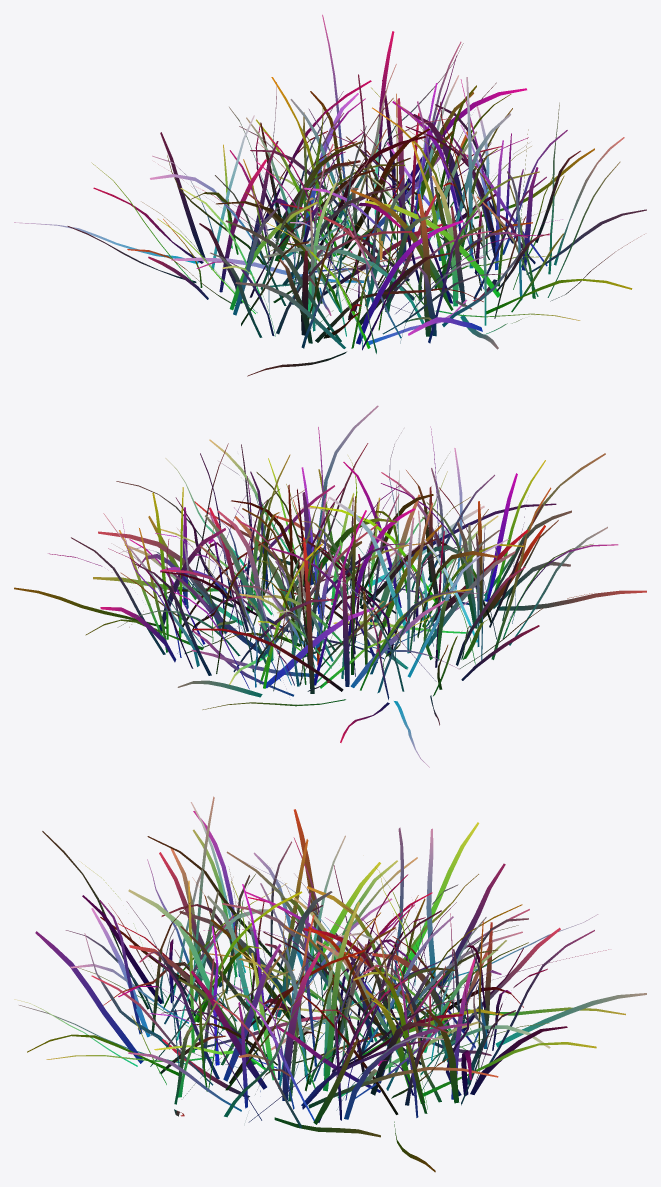
File: Wild_Grass_vlkhcbxia_Mid_vlkhcbxia_VarC_LOD0.fbx
The picture shows the model from 3 angles, top to bottom: view 1: azimuth 30°, elevation 25°; view 2: azimuth 150°, elevation 25°; view 3: azimuth 270°, elevation 25°; orthographic projection. The views are drawn at different scales.
Parts seen in each view (by area): view 1: _xech_VarC_LOD1; view 2: _xech_VarC_LOD1; view 3: _xech_VarC_LOD1.
Boxes of the visible parts, <box> form: _xech_VarC_LOD1: <box>14,14,646,376</box>; _xech_VarC_LOD1: <box>14,405,646,767</box>; _xech_VarC_LOD1: <box>14,796,646,1172</box>.
Size of the model in its own units: 49.64 by 14.89 by 47.56.
